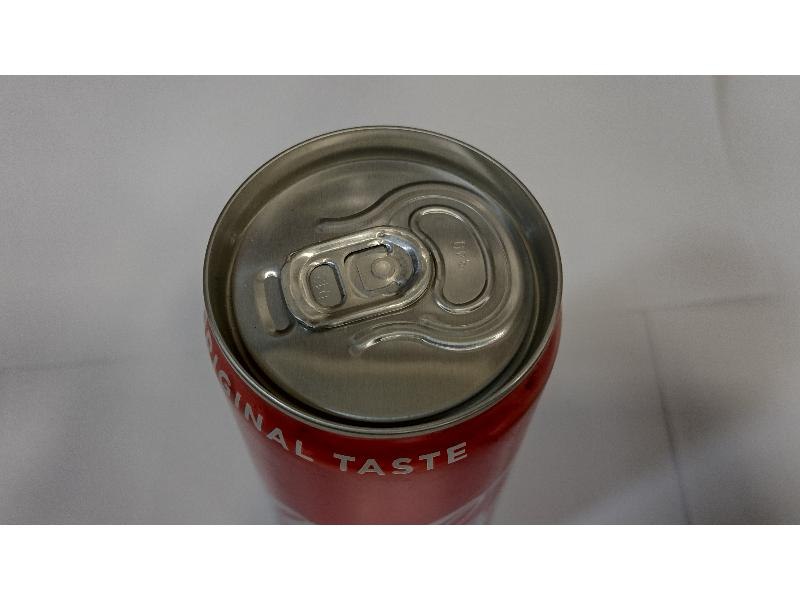can: (201, 122, 563, 522)
